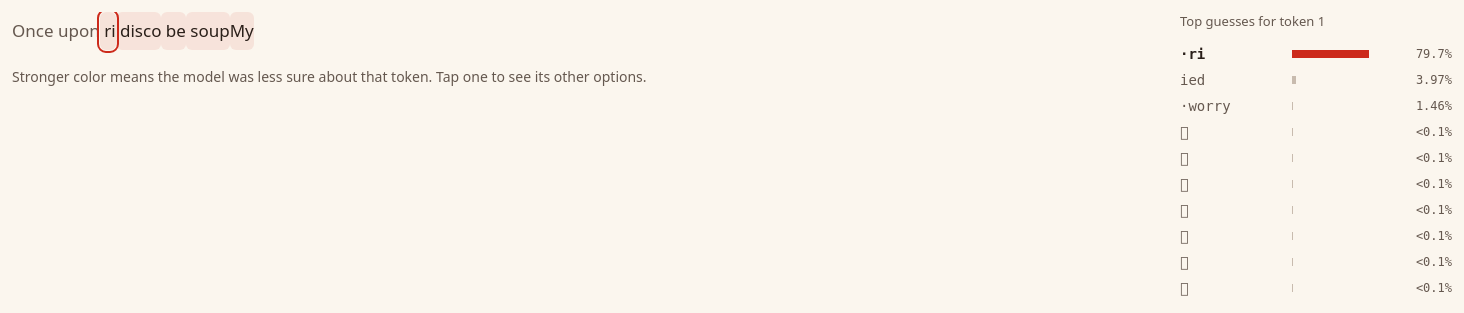
it: output views › probability view lists the top 10 guesses for the picked token
This screenshot has width=1464, height=313.
Expected: the heading "Top guesses for token 1" is shown, 1180,12 -> 1325,30
Note: picking another token switches the list
Click the button "be" at (174, 31), box 161,12 -> 186,50
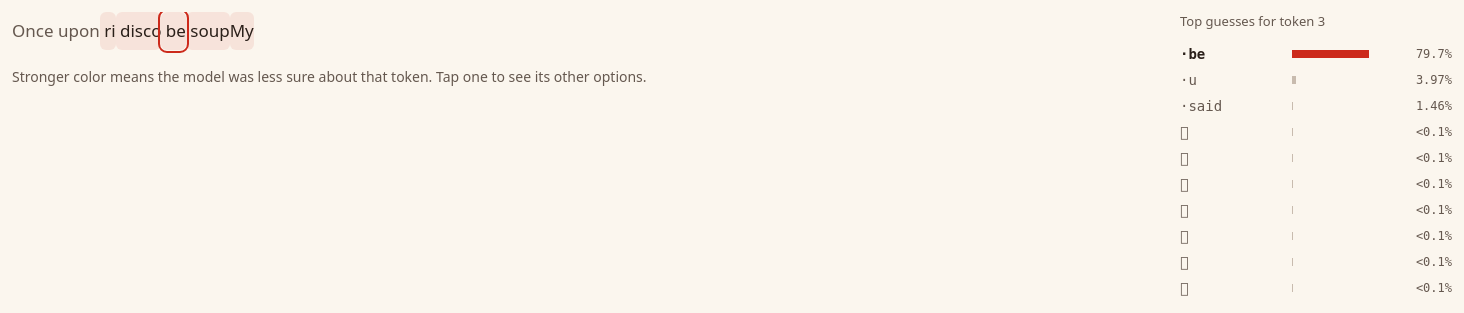
Now the heading "Top guesses for token 3" is shown, box 1180,12 -> 1325,30
